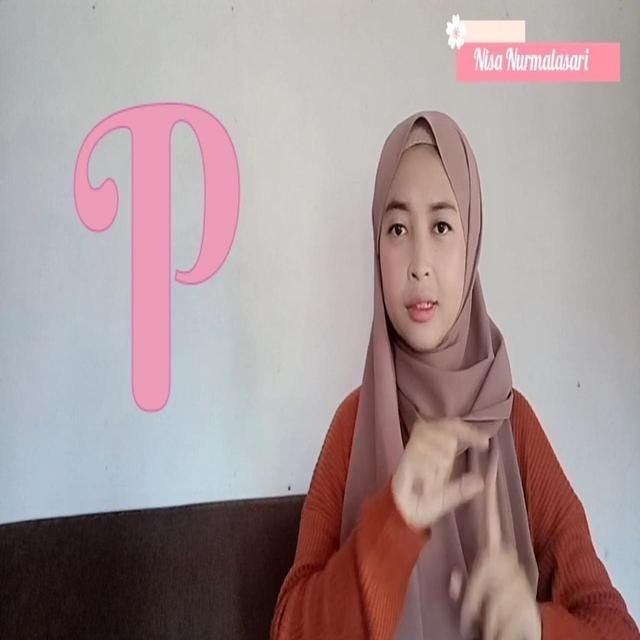P: (394, 410, 540, 640)
